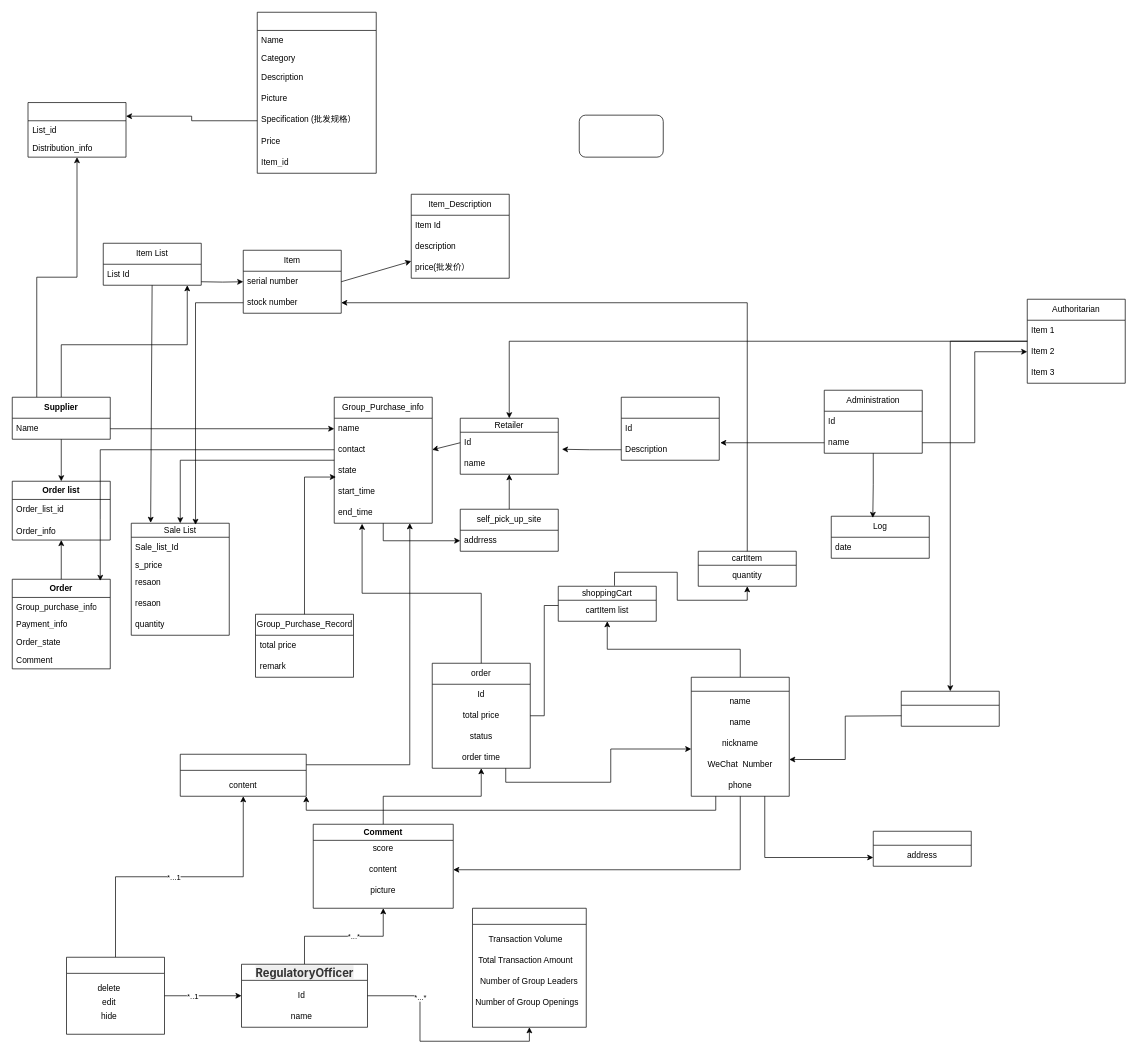
Image size: 1138x1059. Some labels were removed from this diagram. Each missing label, with the box of its shape:
Application: (621, 397, 719, 460)
Complaint: (180, 754, 306, 796)
ComplaintOperation: (66, 957, 164, 1034)
Distribution item: (257, 12, 376, 173)
Distribution list: (27, 102, 126, 157)
GroupMember: (691, 677, 789, 796)
shopping address: (873, 831, 971, 866)
StatisticsData: (472, 908, 586, 1027)
visitor: (901, 691, 999, 726)
